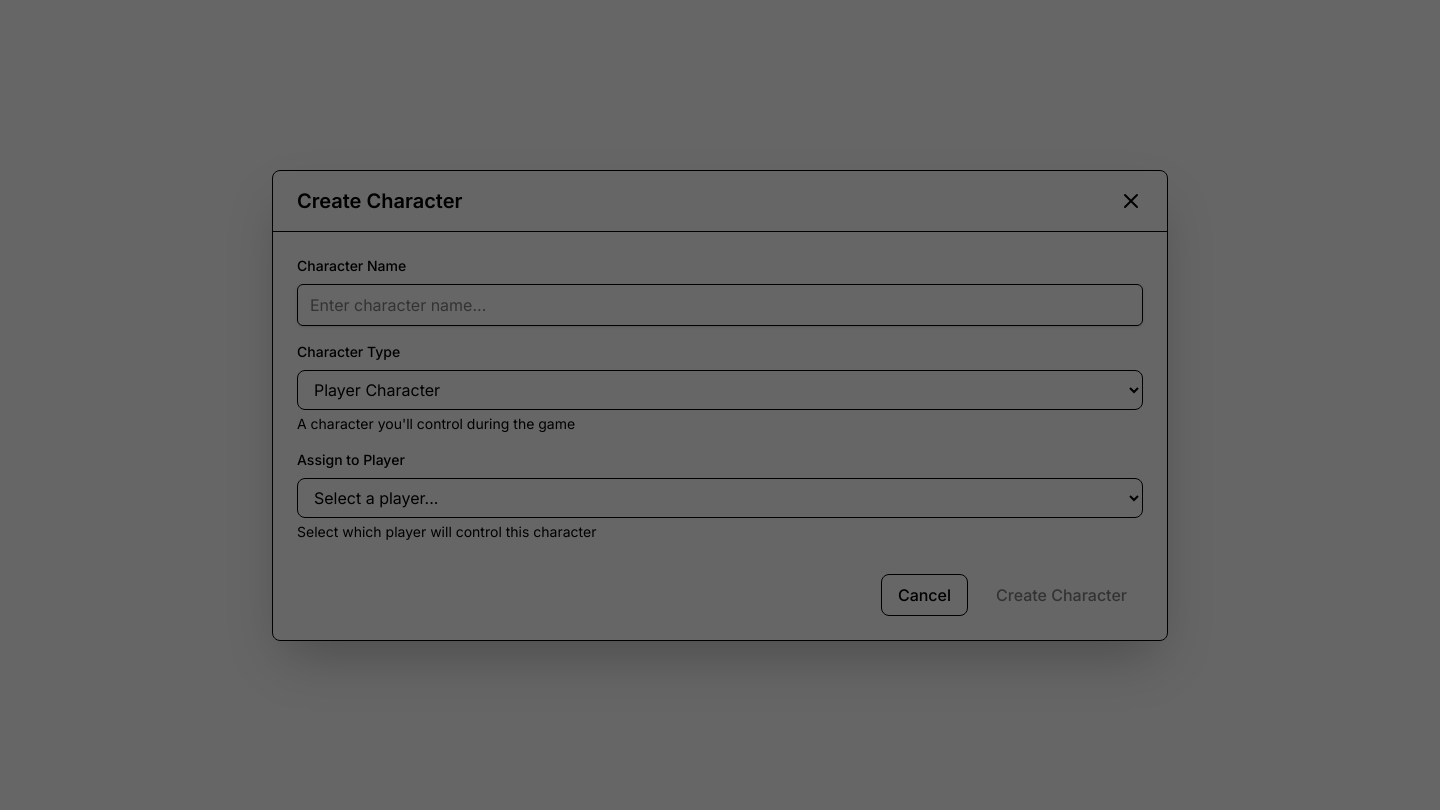
Test: CreateCharacterModal › GM Role - User Selector for Player Characters › shows user selector again when switching back to player character
// Switch to NPC
Select "NPC" in the dropdown labelled "Character Type": (720, 390) [297,370,1143,410]
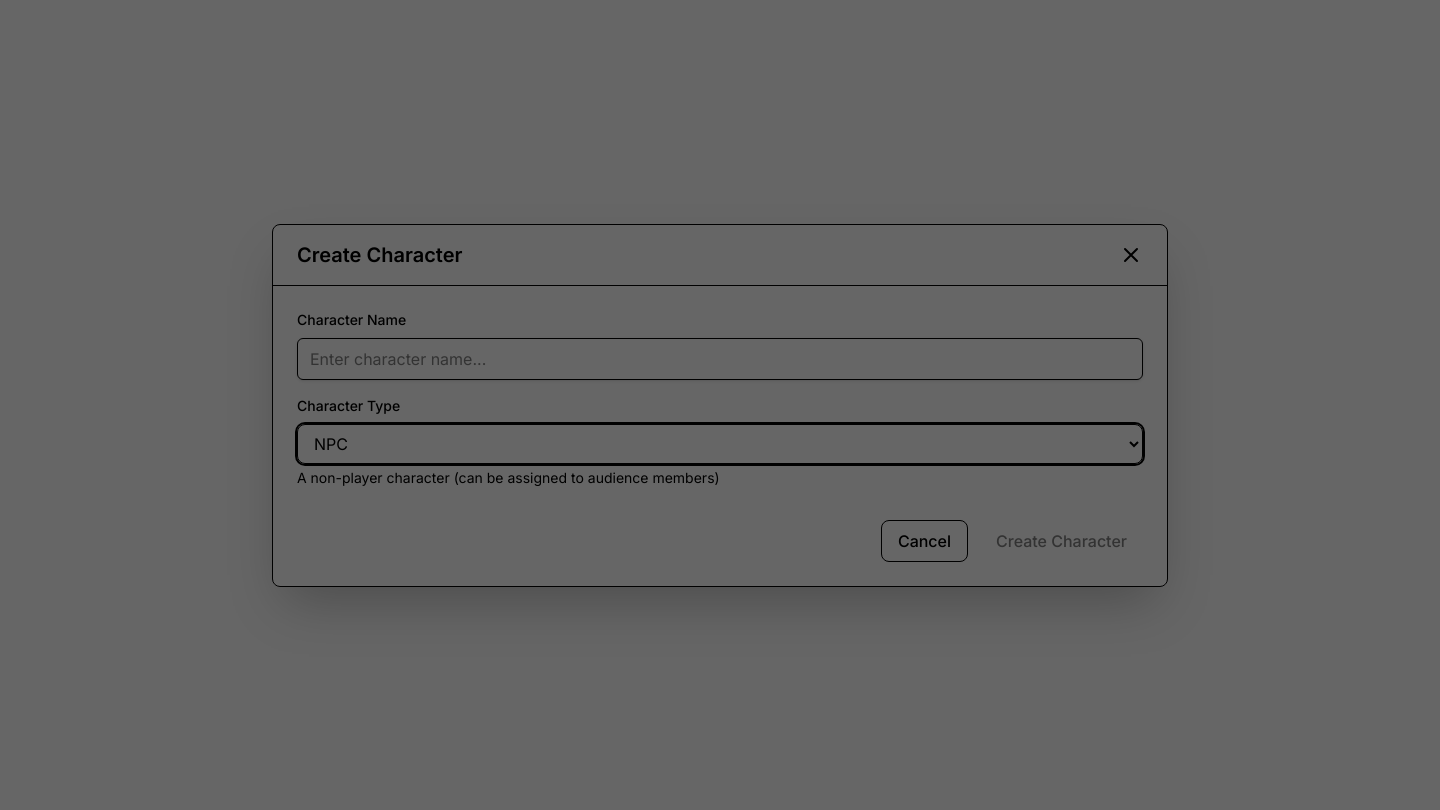
Expected: the label labelled "Assign to Player" is gone
// Switch back to player character
Select "Player Character" in the dropdown labelled "Character Type": (720, 444) [297,424,1143,464]
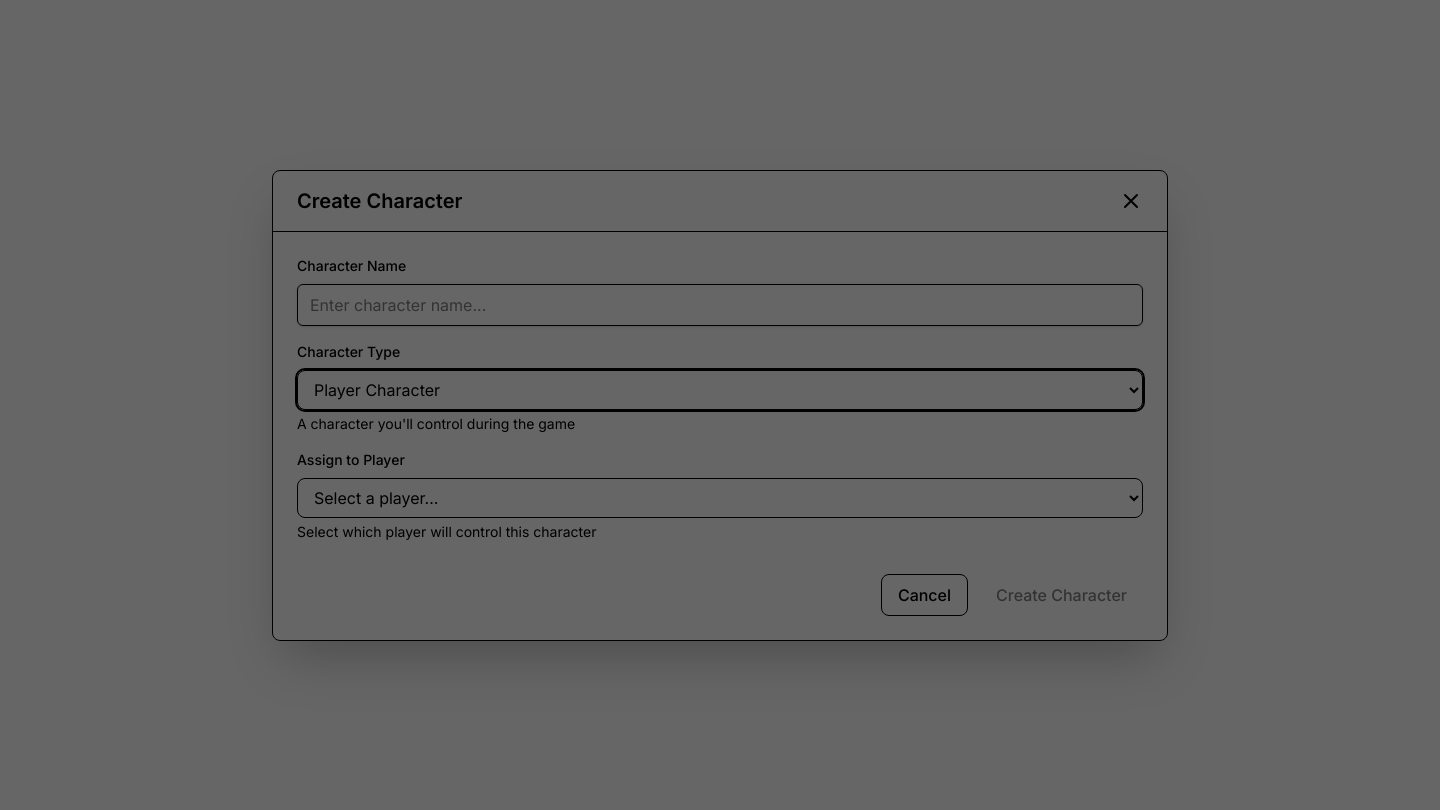
Expected: the dropdown labelled "Assign to Player" is shown, [297,478,1143,518]
